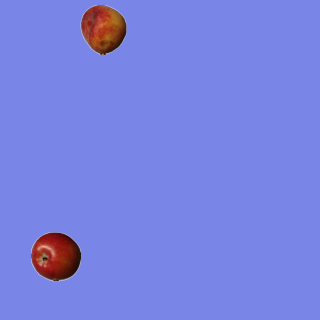Apple Braeburn: (30, 231, 80, 281)
Peach: (78, 4, 128, 54)
